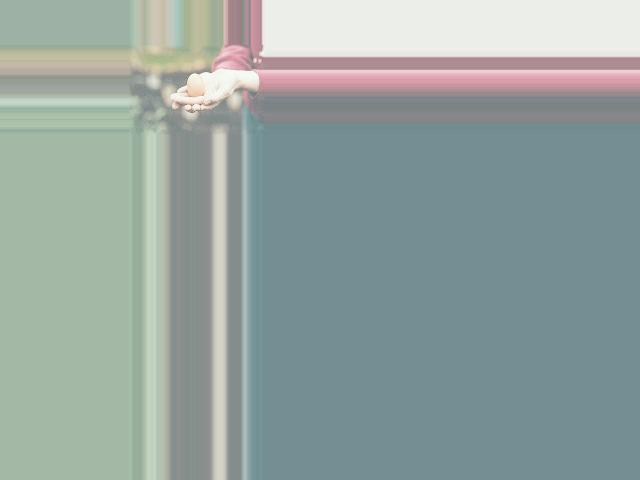egg: (187, 73, 204, 96)
